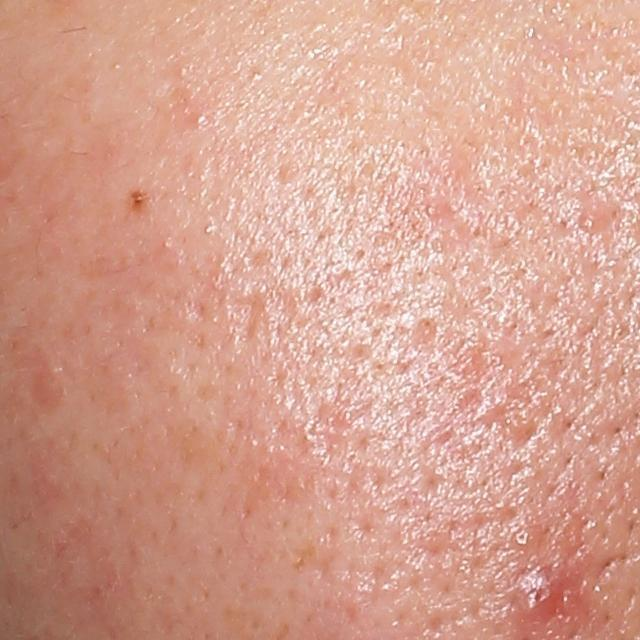atrophic_scar: (219, 291, 269, 347)
comedo: (508, 525, 533, 552), (184, 111, 210, 128)
nevus: (127, 187, 151, 214)
papule: (515, 571, 567, 620)
